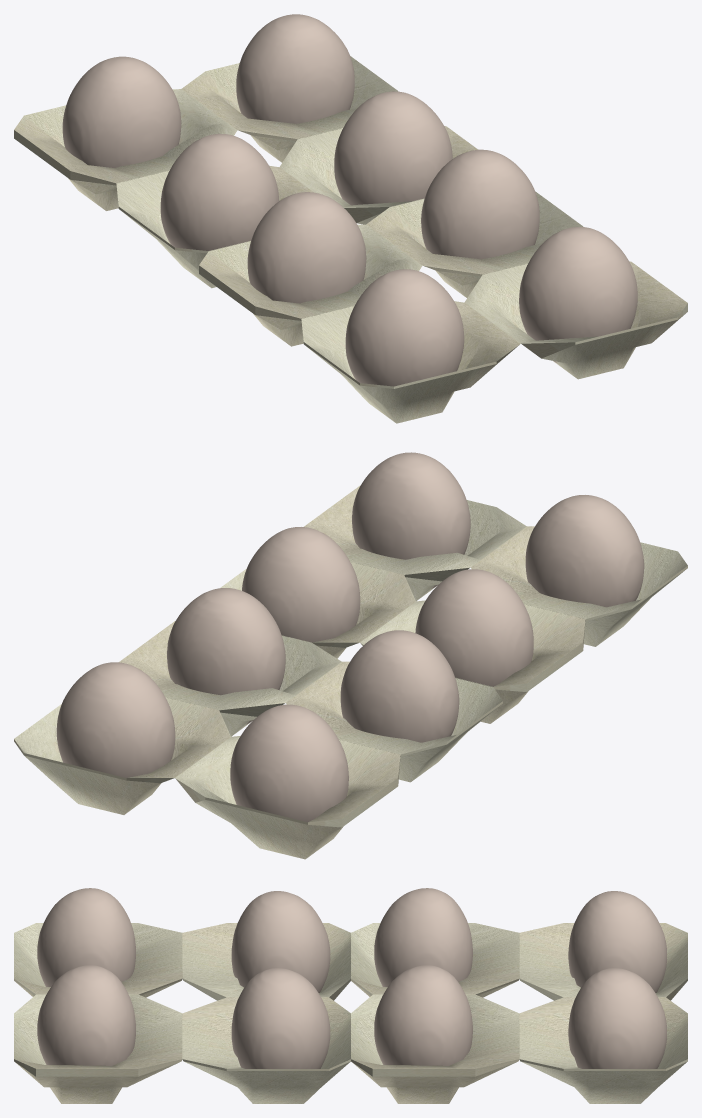
Rendered from EggsModel.fbx.
3 renders of one model, top to bottom at view 1: azimuth 30°, elevation 25°; view 2: azimuth 150°, elevation 25°; view 3: azimuth 270°, elevation 25°, orthographic. The views are drawn at different scales.
Parts seen in each view (by area): view 1: polySurface2, polySurface5, polySurface3, Volume_Mesher5, Volume_Mesher4, Volume_Mesher9, Volume_Mesher6, Volume_Mesher11, Volume_Mesher7, Volume_Mesher10, Volume_Mesher8, polySurface4; view 2: polySurface5, polySurface2, polySurface4, Volume_Mesher11, Volume_Mesher10, Volume_Mesher9, Volume_Mesher5, Volume_Mesher4, Volume_Mesher8, Volume_Mesher6, Volume_Mesher7, polySurface3; view 3: polySurface4, polySurface2, polySurface3, polySurface5, Volume_Mesher6, Volume_Mesher11, Volume_Mesher8, Volume_Mesher4, Volume_Mesher7, Volume_Mesher10, Volume_Mesher5, Volume_Mesher9.
Boxes of the visible parts, x1,y1,x2,y2 form: polySurface2: (301, 261, 687, 423); polySurface5: (14, 56, 398, 210); polySurface3: (199, 191, 583, 346); Volume_Mesher5: (345, 269, 464, 386); Volume_Mesher4: (519, 227, 637, 363); Volume_Mesher9: (160, 133, 279, 250); Volume_Mesher6: (421, 149, 539, 259); Volume_Mesher11: (236, 14, 354, 123); Volume_Mesher7: (247, 192, 366, 303); Volume_Mesher10: (62, 56, 181, 167); Volume_Mesher8: (334, 91, 452, 205); polySurface4: (116, 126, 477, 288); polySurface5: (14, 697, 400, 859); polySurface2: (304, 486, 687, 646); polySurface4: (119, 621, 502, 782); Volume_Mesher11: (56, 662, 175, 777); Volume_Mesher10: (230, 704, 348, 822); Volume_Mesher9: (340, 630, 459, 742); Volume_Mesher5: (525, 495, 644, 607); Volume_Mesher4: (352, 452, 470, 588); Volume_Mesher8: (167, 588, 285, 724); Volume_Mesher6: (242, 527, 360, 642); Volume_Mesher7: (415, 569, 533, 686); polySurface3: (220, 562, 585, 723); polySurface4: (351, 923, 519, 1103); polySurface2: (14, 923, 182, 1103); polySurface3: (182, 923, 350, 1103); polySurface5: (519, 923, 687, 1103); Volume_Mesher6: (231, 968, 330, 1068); Volume_Mesher11: (568, 968, 666, 1068); Volume_Mesher8: (374, 965, 472, 1065); Volume_Mesher4: (37, 965, 135, 1065); Volume_Mesher7: (231, 891, 330, 992); Volume_Mesher10: (568, 891, 666, 992); Volume_Mesher5: (37, 888, 135, 986); Volume_Mesher9: (374, 888, 472, 986).
Size of the model in its own units: 0.752 by 0.2913 by 1.47.
Materials: 2 (1 with a texture image).
